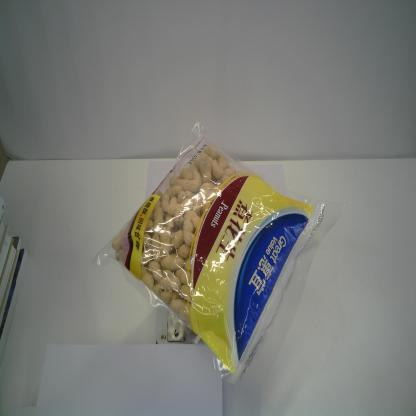Dried Food: (88, 121, 324, 387)
